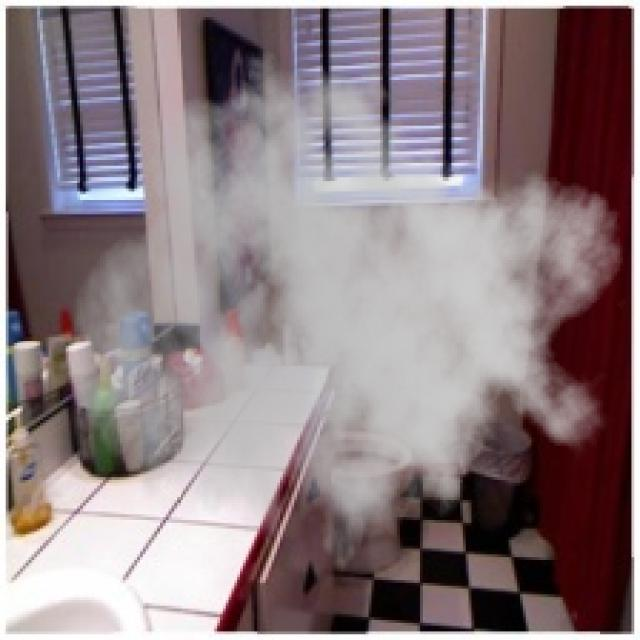smoke: (71, 37, 626, 597)
